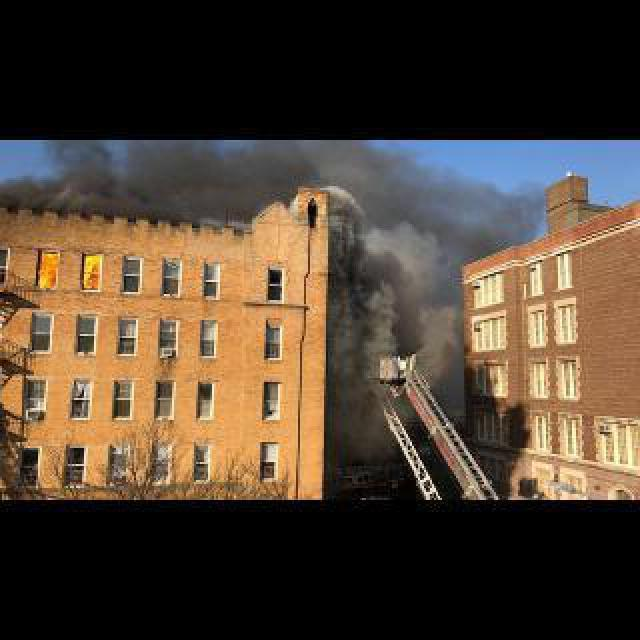Fire: (28, 246, 62, 298), (74, 248, 106, 296)
Smoke: (316, 140, 520, 474), (2, 140, 274, 216)
